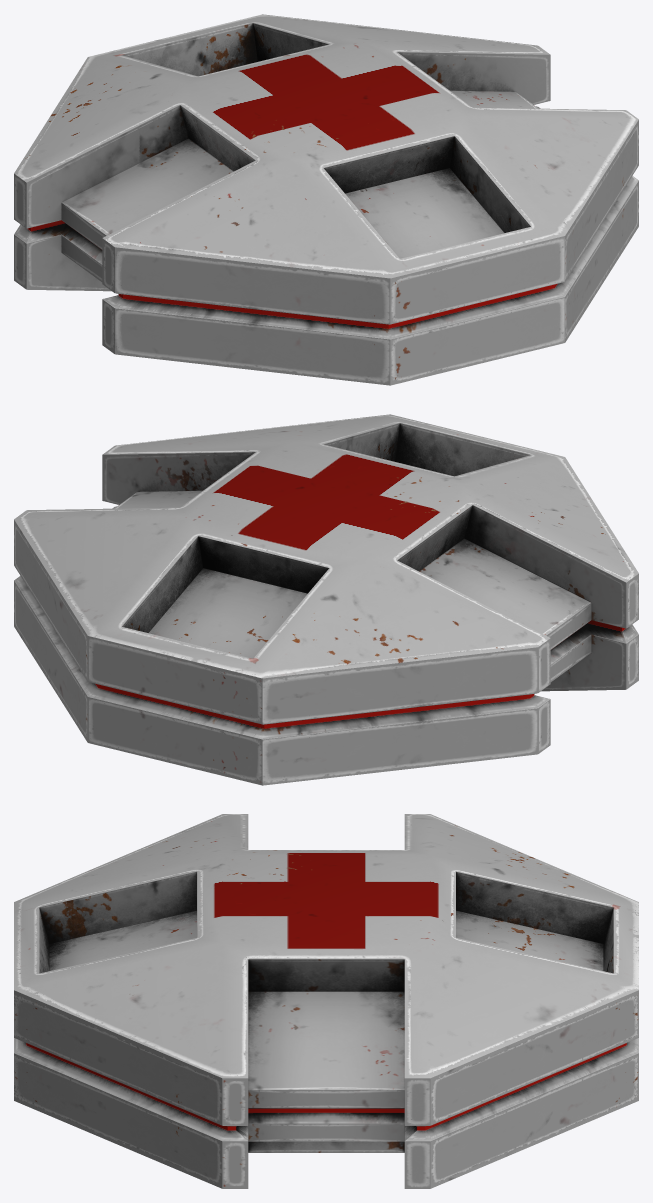
Rendered from HealthPack.Obj.
3 renders of one model, top to bottom at view 1: azimuth 30°, elevation 25°; view 2: azimuth 150°, elevation 25°; view 3: azimuth 270°, elevation 25°, orthographic. The views are drawn at different scales.
Parts seen in each view (by area): view 1: HealthPack; view 2: HealthPack; view 3: HealthPack.
Part boxes in pixels (x1,y1,x2,y2): HealthPack: (14, 14, 638, 385); HealthPack: (14, 414, 638, 785); HealthPack: (14, 814, 638, 1188).
Bounding box in the file's own units: 60 × 21.72 × 60.
